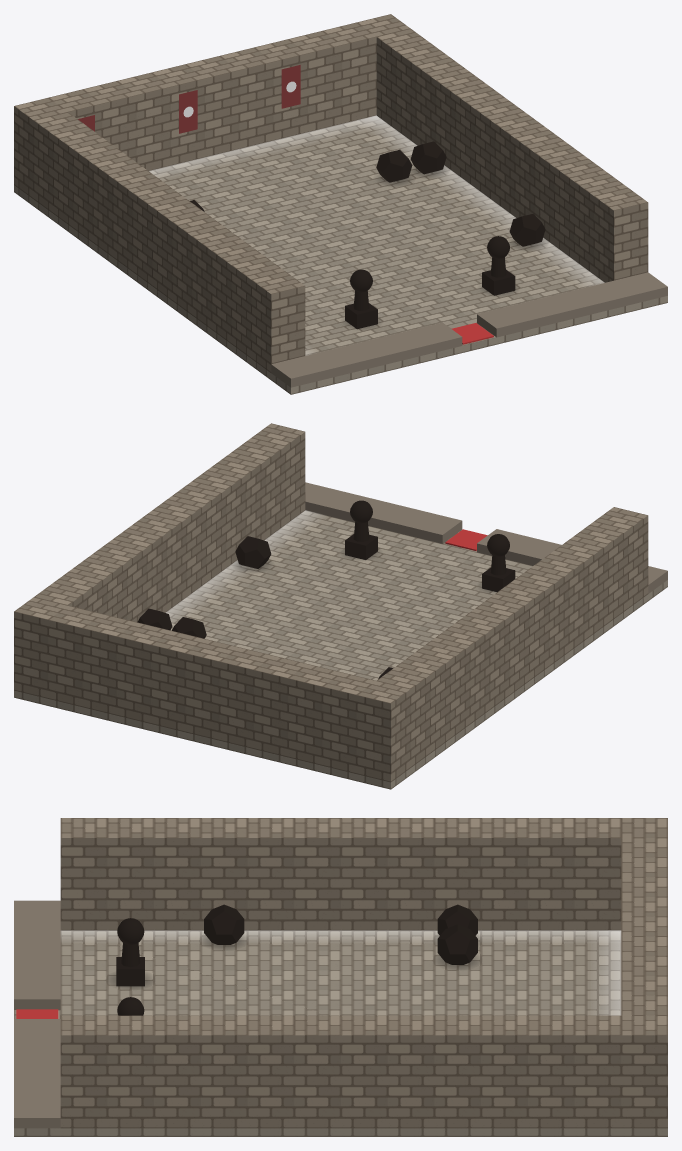
The model's file is ginasio1.glb.
The picture shows the model from 3 angles, top to bottom: view 1: azimuth 30°, elevation 25°; view 2: azimuth 150°, elevation 25°; view 3: azimuth 270°, elevation 25°; orthographic projection. The views are drawn at different scales.
Parts seen in each view (by area): view 1: malha__semsombra (×48), malha__contorno (×5); view 2: malha__semsombra (×42), malha__contorno (×3); view 3: malha__semsombra (×46), malha__contorno (×5).
Boxes of the visible parts, x1=… form: malha__semsombra (×48): x1=14, y1=14, x2=667, y2=394; malha__contorno (×5): x1=345, y1=141, x2=545, y2=329; malha__semsombra (×42): x1=14, y1=423, x2=667, y2=789; malha__contorno (×3): x1=235, y1=534, x2=515, y2=592; malha__semsombra (×46): x1=14, y1=818, x2=667, y2=1136; malha__contorno (×5): x1=116, y1=904, x2=477, y2=986.
Size of the model in its own units: 11 by 2.4 by 14.
Materials: 20 (11 with a texture image).
